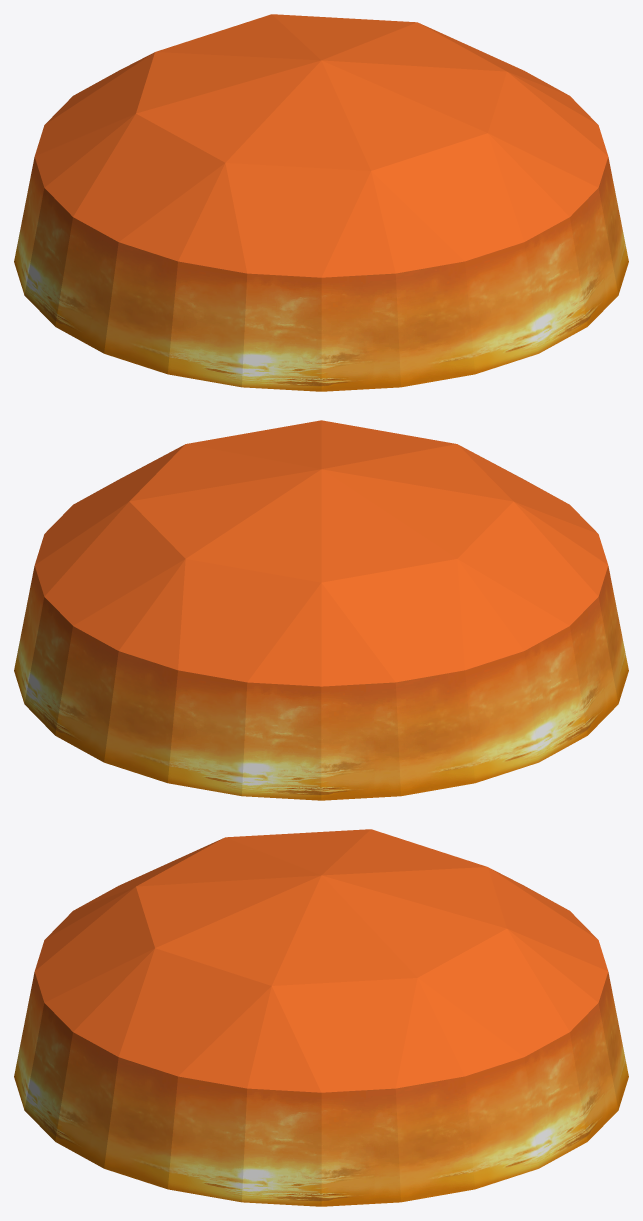
Rendered from Seaside Hill 12.fbx.
3 views of the same model, one above another, from view 1: azimuth 30°, elevation 25°; view 2: azimuth 150°, elevation 25°; view 3: azimuth 270°, elevation 25° (orthographic).
Visible parts, largest first — view 1: Seaside hill 12; view 2: Seaside hill 12; view 3: Seaside hill 12.
Part boxes in pixels (x1,y1,x2,y2): Seaside hill 12: (14, 14, 628, 391); Seaside hill 12: (14, 420, 628, 800); Seaside hill 12: (14, 829, 628, 1206).
Size of the model in its own units: 10000000 by 3639322 by 9999999.
